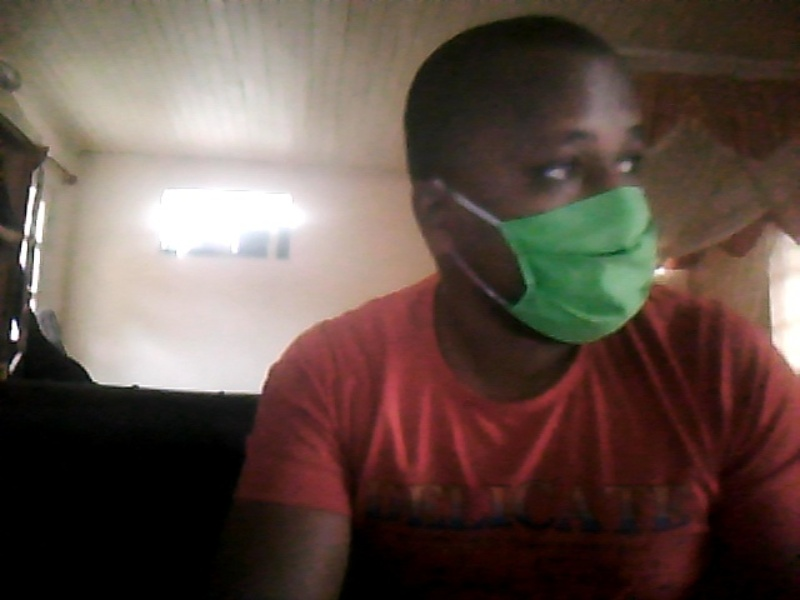ManaoArotava: (396, 13, 680, 347)
